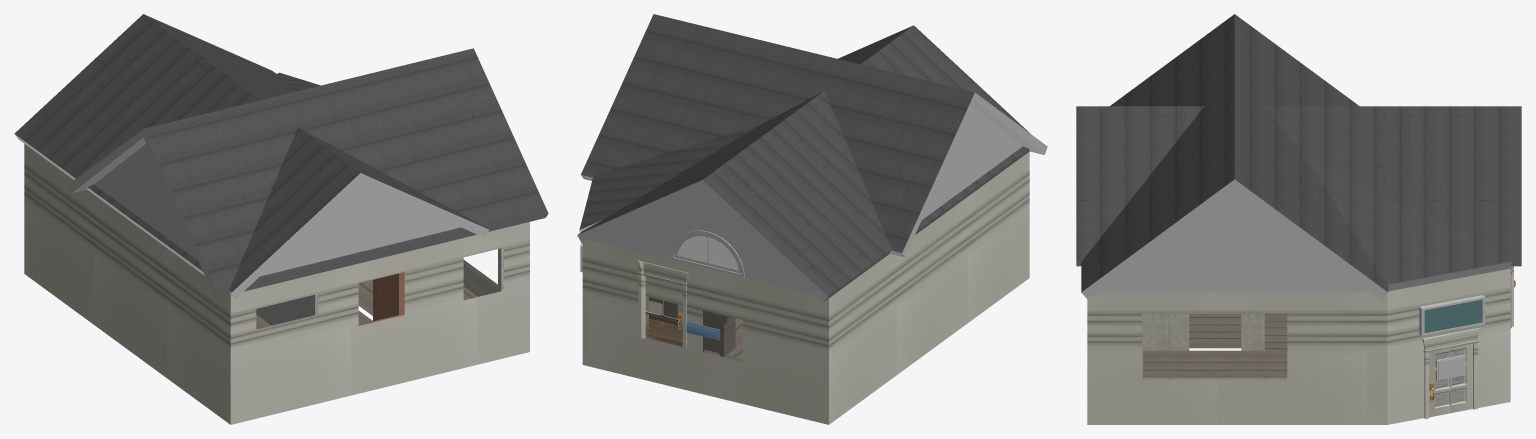
File: 多鹿米工作室.fbx
3 views of the same model, side by side, from view 1: azimuth 30°, elevation 25°; view 2: azimuth 150°, elevation 25°; view 3: azimuth 270°, elevation 25° (orthographic). The views are drawn at different scales.
Visible parts, largest first — view 1: 工作室屋頂, 牆壁6_257.001, 牆壁6_257.003, 牆壁6_257.002, 工作室內部; view 2: 工作室屋頂, 牆壁6_257.001, 圓形.001, 桌子34, 門框6, 洗水台, 牆壁6_257.002; view 3: 工作室屋頂, 牆壁6_257.001, 牆壁6_257.002, 工作室門, 工作室門牌, 牆壁6_257.003, 門框6.001, 立方體.011.
Part boxes in pixels (x1,y1,x2,y2): 工作室屋頂: (14, 14, 548, 298); 牆壁6_257.001: (24, 144, 529, 424); 牆壁6_257.003: (358, 272, 404, 325); 牆壁6_257.002: (358, 247, 503, 315); 工作室內部: (256, 294, 318, 330); 工作室屋頂: (577, 14, 1047, 301); 牆壁6_257.001: (582, 151, 1029, 424); 圓形.001: (670, 230, 744, 277); 桌子34: (649, 297, 735, 356); 門框6: (637, 260, 688, 348); 洗水台: (645, 311, 682, 346); 牆壁6_257.002: (646, 318, 742, 361); 工作室屋頂: (1076, 14, 1521, 298); 牆壁6_257.001: (1087, 268, 1510, 424); 牆壁6_257.002: (1142, 314, 1463, 404); 工作室門: (1429, 344, 1472, 417); 工作室門牌: (1419, 295, 1485, 335); 牆壁6_257.003: (1189, 314, 1241, 348); 門框6.001: (1422, 328, 1479, 418); 立方體.011: (1436, 354, 1465, 380).
Bounding box in the file's own units: 1594 × 1140 × 1815.
